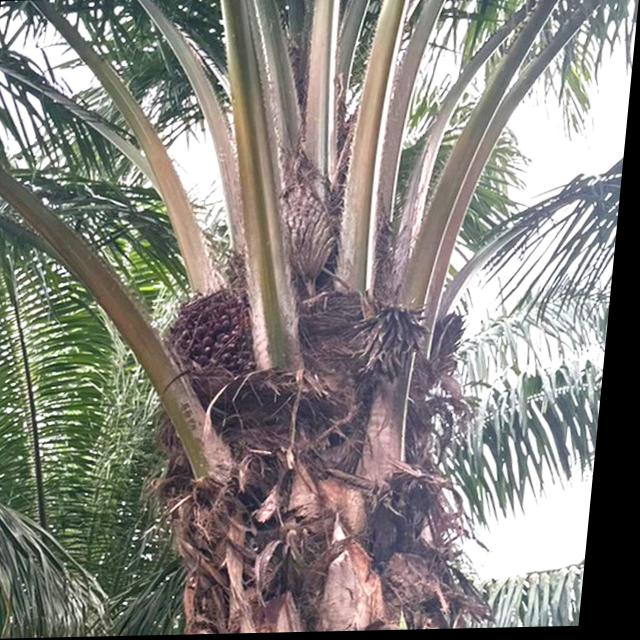ripe: (161, 269, 274, 385)
